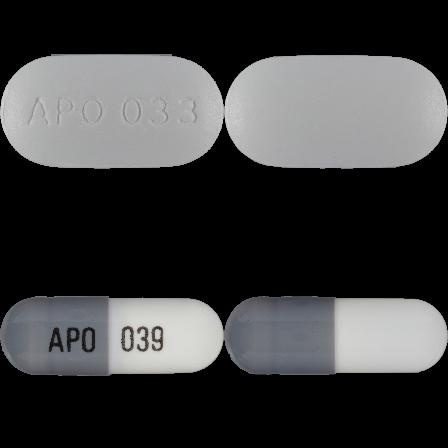60505-0033: (0, 0, 224, 224)
